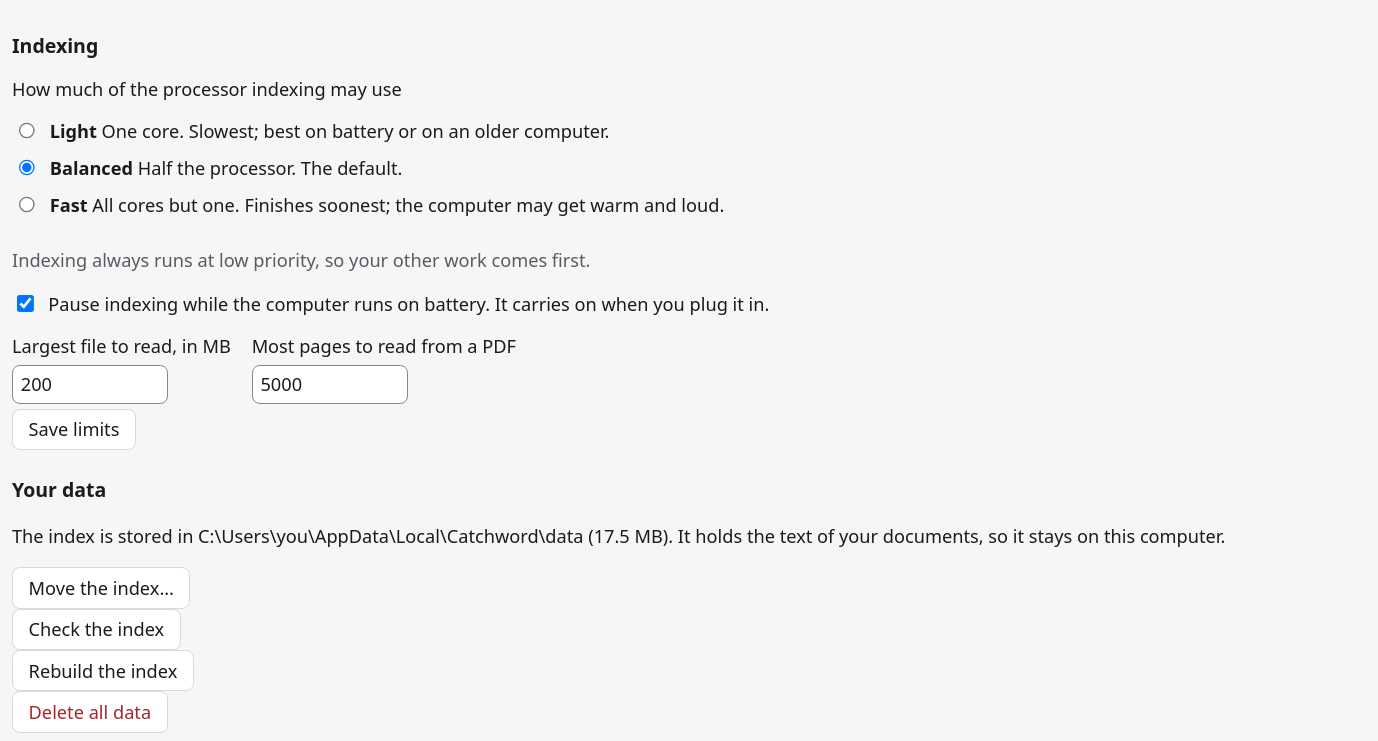
Test: the settings screen › saves the file limits, and says why one is out of range
(page scrolled)
Replace the text in the number field labelled "Largest file to read, in MB" with "500" at (90, 384), box [12,365,168,404]
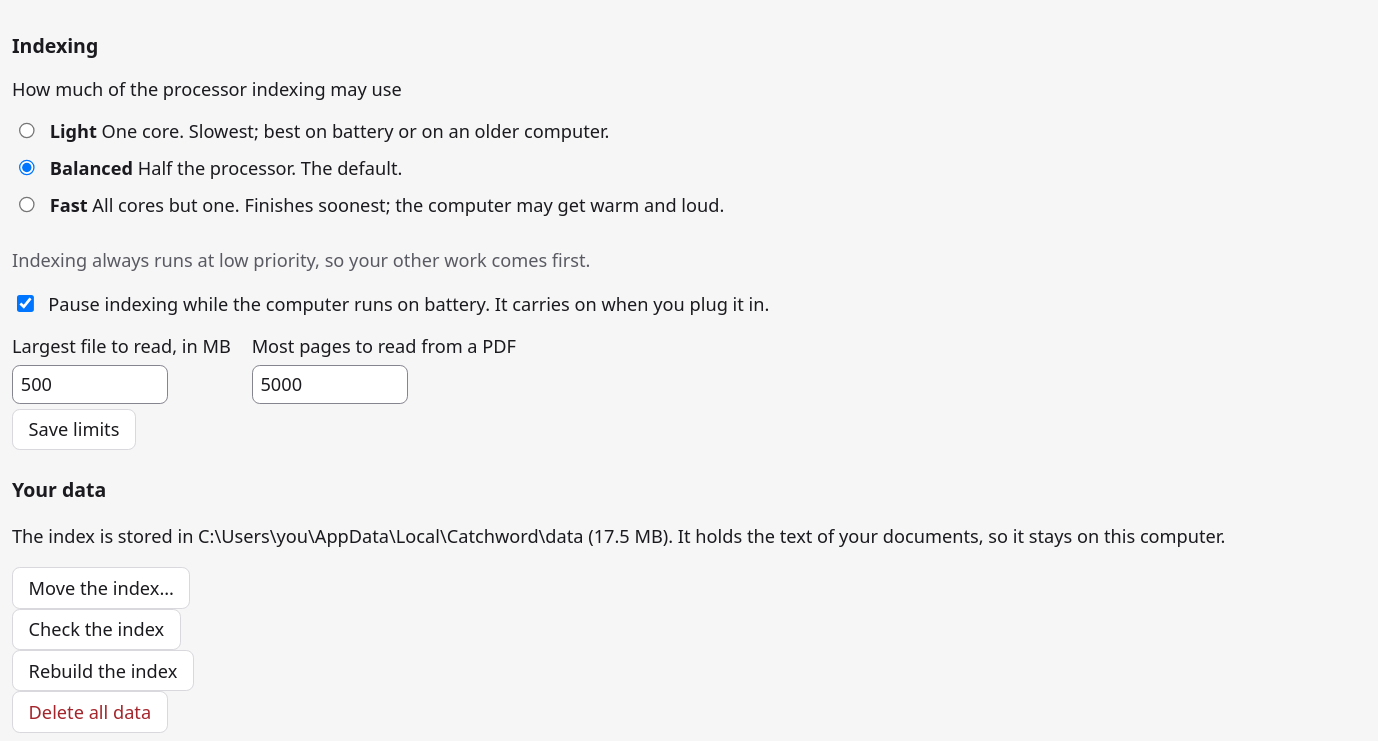
Click the button "Save limits" at (74, 430), box [12,409,136,450]
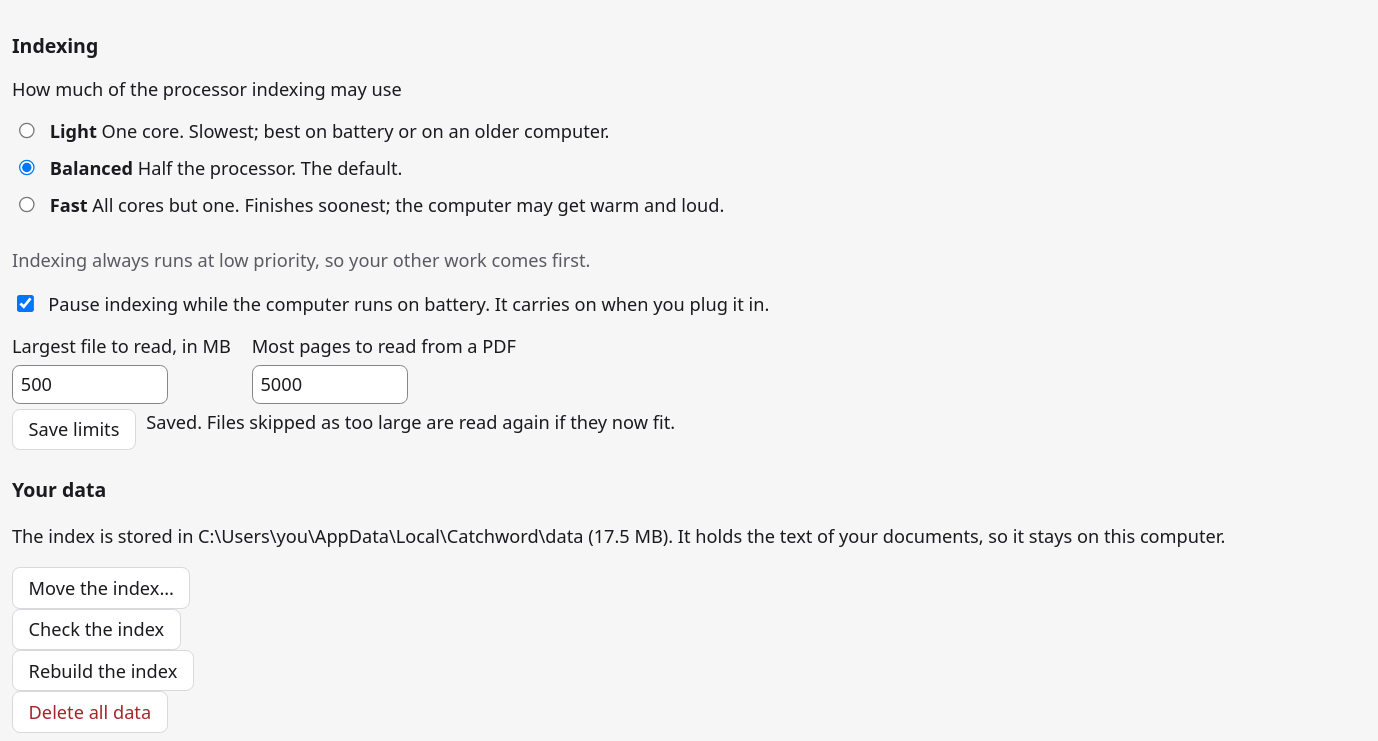
Now the text "Saved. Files skipped as too large are read again if they now fit." is shown, box [146,410,675,434]
Replace the text in the number field labelled "Most pages to read from a PDF" with "0" at (330, 384), box [252,365,408,404]
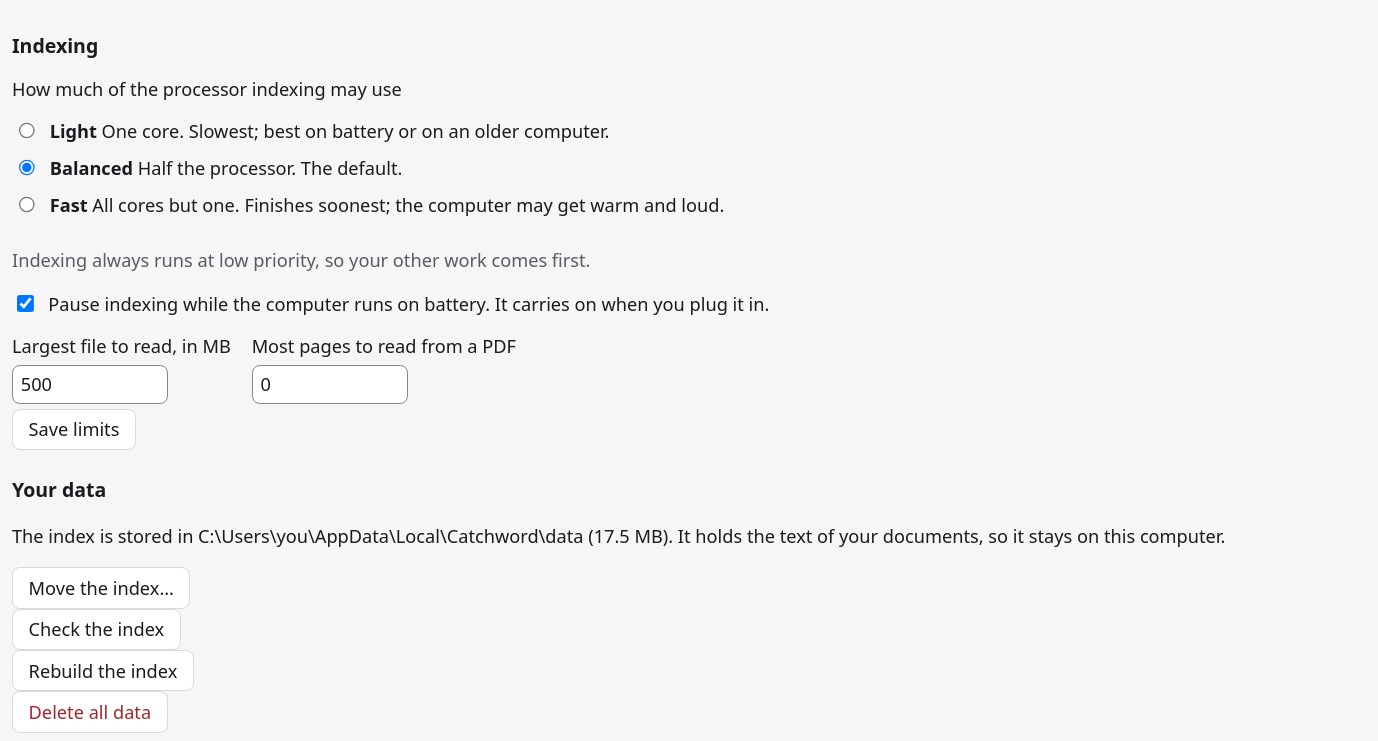
Click the button "Save limits" at (74, 430), box [12,409,136,450]
(page scrolled)
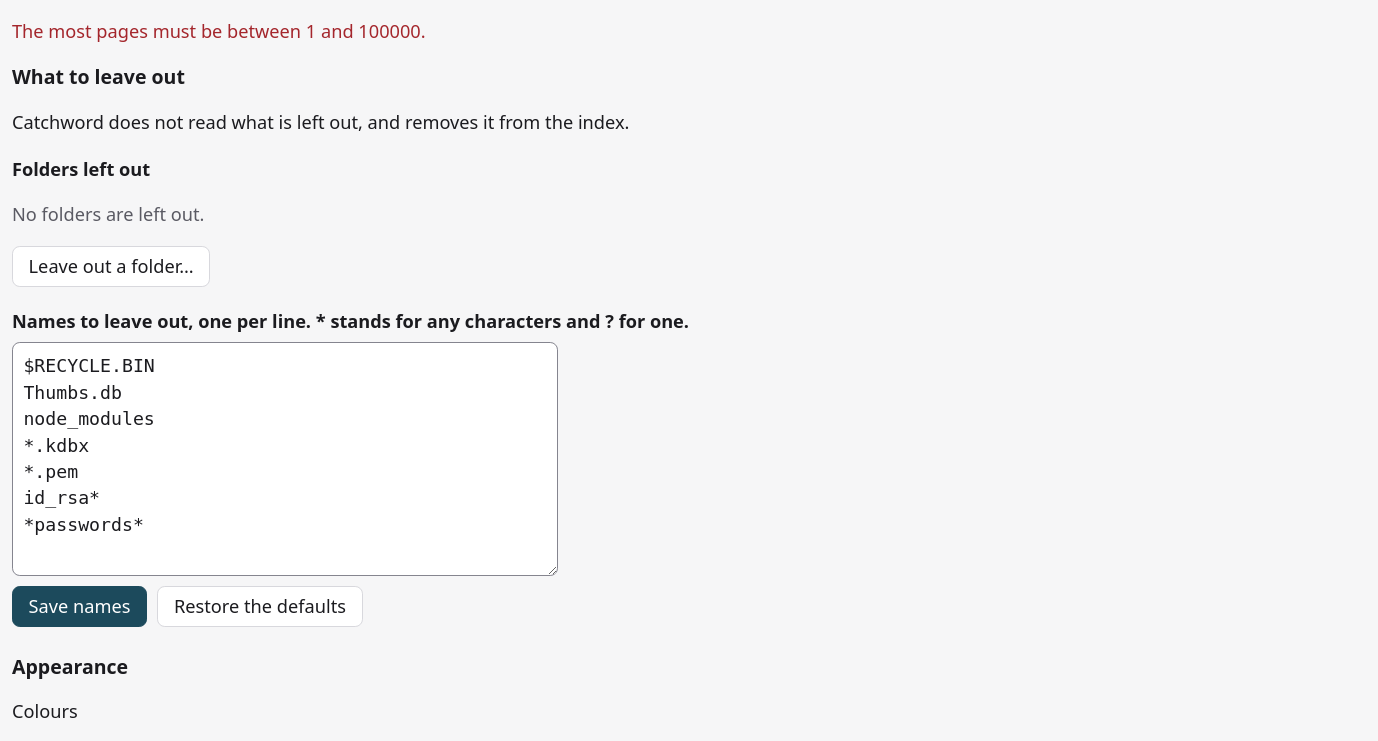
Now the message shows "between 1 and 100000", box [12,19,426,43]
